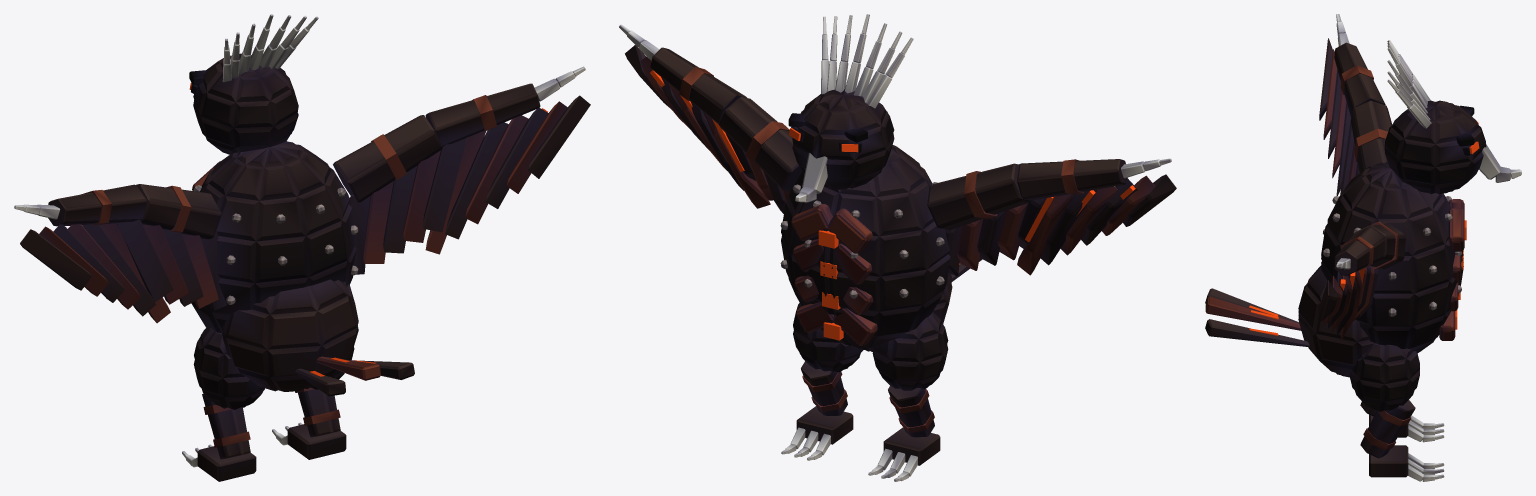
Rendered from Zharbird.glb.
The picture shows the model from 3 angles, left to right: view 1: azimuth 30°, elevation 25°; view 2: azimuth 150°, elevation 25°; view 3: azimuth 270°, elevation 25°; orthographic projection. The views are drawn at different scales.
Visible parts, largest first — view 1: Body__Tex, WingR2__Tex, WingR1__Tex, WingL2__Tex, Head__Tex, WingL1__Tex, LegL2__Tex, LegL1__Tex, LegR2__Tex, Tail2__Tex, Tail1__Tex, Tail3__Tex; view 2: Body__Tex, Head__Tex, WingL2__Tex, WingL1__Tex, WingR2__Tex, WingR1__Tex, LegL1__Tex, LegL2__Tex, LegR2__Tex, LegR1__Tex, Body__Glow; view 3: Body__Tex, Head__Tex, WingL2__Tex, LegR1__Tex, WingR2__Tex, LegR2__Tex, WingL1__Tex, WingR1__Tex, Tail3__Tex, Tail2__Tex, LegL2__Tex, Tail1__Tex.
Part boxes in pixels (box(x1,y1,x2,y2)): Body__Tex: box(191, 141, 358, 391); WingR2__Tex: box(425, 66, 590, 254); WingR1__Tex: box(333, 115, 466, 274); WingL2__Tex: box(14, 184, 170, 323); Head__Tex: box(189, 14, 318, 154); WingL1__Tex: box(116, 184, 226, 310); LegL2__Tex: box(182, 394, 256, 481); LegL1__Tex: box(193, 327, 264, 409); LegR2__Tex: box(272, 387, 346, 459); Tail2__Tex: box(316, 356, 380, 380); Tail1__Tex: box(295, 368, 345, 396); Tail3__Tex: box(351, 360, 414, 379); Body__Tex: box(780, 145, 952, 351); Head__Tex: box(788, 14, 913, 202); WingL2__Tex: box(1017, 158, 1176, 275); WingL1__Tex: box(927, 163, 1046, 275); WingR2__Tex: box(619, 24, 770, 208); WingR1__Tex: box(719, 97, 802, 213); LegL1__Tex: box(872, 312, 948, 390); LegL2__Tex: box(868, 385, 940, 481); LegR2__Tex: box(781, 361, 853, 460); LegR1__Tex: box(793, 303, 863, 372); Body__Glow: box(818, 230, 843, 340); Body__Tex: box(1298, 161, 1464, 377); Head__Tex: box(1384, 40, 1521, 194); WingL2__Tex: box(1319, 14, 1385, 195); LegR1__Tex: box(1349, 343, 1419, 411); WingR2__Tex: box(1319, 227, 1385, 340); LegR2__Tex: box(1360, 400, 1444, 481); WingL1__Tex: box(1340, 100, 1392, 194); WingR1__Tex: box(1352, 221, 1405, 320); Tail3__Tex: box(1205, 319, 1309, 347); Tail2__Tex: box(1205, 296, 1301, 330); LegL2__Tex: box(1360, 402, 1444, 442); Tail1__Tex: box(1205, 288, 1299, 323).
Bounding box in the file's own units: 7.61 × 5.75 × 4.05.
